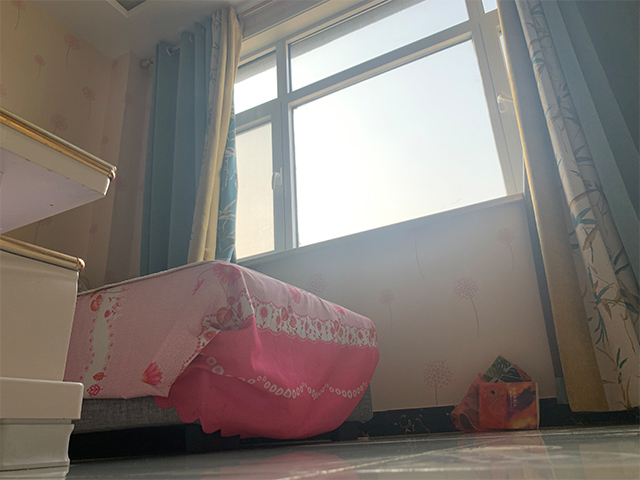book: (479, 381, 540, 431)
curtain: (496, 1, 640, 414), (133, 9, 236, 265)
sofa: (63, 259, 381, 440)
